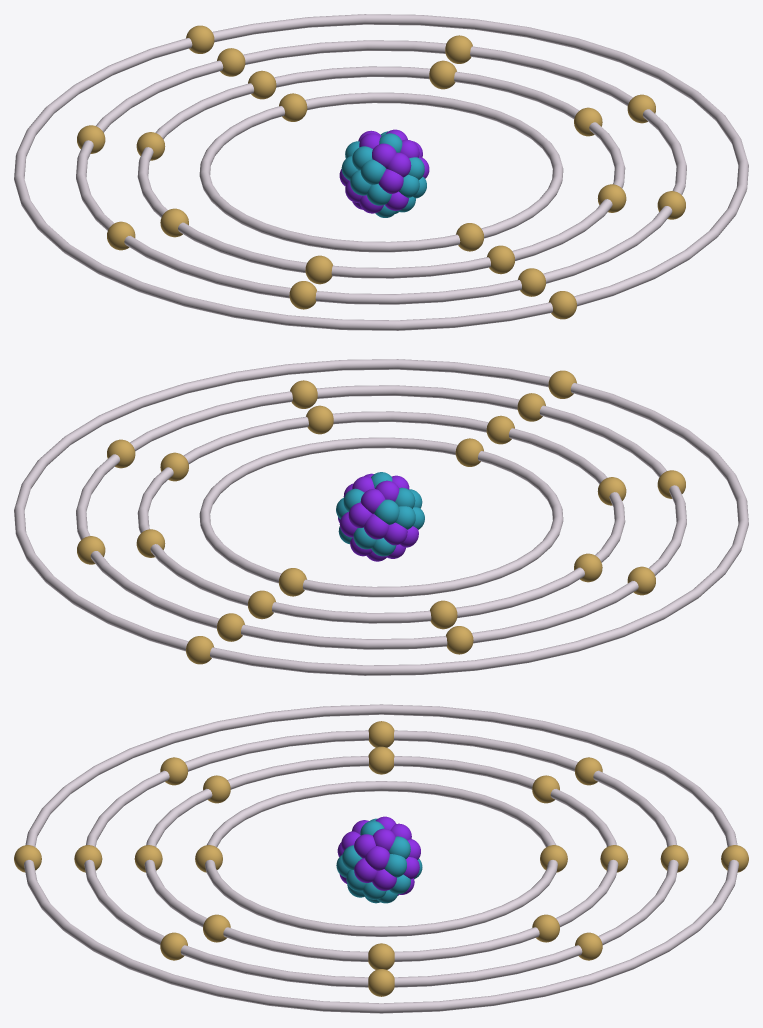
File: calcio.glb
The picture shows the model from 3 angles, top to bottom: view 1: azimuth 30°, elevation 25°; view 2: azimuth 150°, elevation 25°; view 3: azimuth 270°, elevation 25°; orthographic projection. The views are drawn at different scales.
Visible parts, largest first — view 1: Orbita_4, Orbita_3, Orbita_2, Orbita_1, Nucleo_Completo, Eletron_C2_8, Eletron_C2_8.001, Eletron_C2_4, Eletron_C2_4.001, Eletron_C2_1, Eletron_1, Eletron_C4_1 (+13 smaller); view 2: Orbita_4, Orbita_3, Orbita_2, Orbita_1, Nucleo_Completo, Eletron_C2_6, Eletron_C2_6.001, Eletron_C2_2, Eletron_C2_2.001, Eletron_C2_5, Eletron_2, Eletron_C4_2 (+13 smaller); view 3: Orbita_4, Orbita_3, Orbita_2, Orbita_1, Nucleo_Completo, Eletron_C2_3.001, Eletron_C2_7, Eletron_C2_3, Eletron_C2_7.001, Eletron_C2_2, Eletron_C2_4, Eletron_C2_2.001 (+13 smaller).
Boxes of the visible parts, <box> form: Orbita_4: <box>14,14,748,330</box>; Orbita_3: <box>76,40,686,304</box>; Orbita_2: <box>137,66,625,278</box>; Orbita_1: <box>199,92,563,252</box>; Nucleo_Completo: <box>339,129,429,217</box>; Eletron_C2_8: <box>305,255,332,284</box>; Eletron_C2_8.001: <box>289,281,316,309</box>; Eletron_C2_4: <box>429,60,456,89</box>; Eletron_C2_4.001: <box>445,35,472,63</box>; Eletron_C2_1: <box>487,245,514,274</box>; Eletron_1: <box>456,223,484,251</box>; Eletron_C4_1: <box>548,291,576,319</box>; Orbita_4: <box>14,359,748,675</box>; Orbita_3: <box>76,385,686,649</box>; Orbita_2: <box>137,411,625,623</box>; Orbita_1: <box>199,437,563,597</box>; Nucleo_Completo: <box>336,472,424,561</box>; Eletron_C2_6: <box>430,600,457,629</box>; Eletron_C2_6.001: <box>446,626,473,654</box>; Eletron_C2_2: <box>306,405,333,434</box>; Eletron_C2_2.001: <box>290,380,317,408</box>; Eletron_C2_5: <box>248,590,275,619</box>; Eletron_2: <box>278,568,306,596</box>; Eletron_C4_2: <box>186,636,214,664</box>; Orbita_4: <box>24,704,738,1013</box>; Orbita_3: <box>84,730,678,987</box>; Orbita_2: <box>144,756,618,961</box>; Orbita_1: <box>205,781,557,936</box>; Nucleo_Completo: <box>336,816,422,903</box>; Eletron_C2_3.001: <box>368,969,394,996</box>; Eletron_C2_7: <box>368,746,394,774</box>; Eletron_C2_3: <box>368,943,394,969</box>; Eletron_C2_7.001: <box>368,721,394,747</box>; Eletron_C2_2: <box>203,914,230,942</box>; Eletron_C2_4: <box>532,914,559,942</box>; Eletron_C2_2.001: <box>160,932,187,960</box>.
Bounding box in the file's own units: 4.16 × 0.5029 × 4.26.
